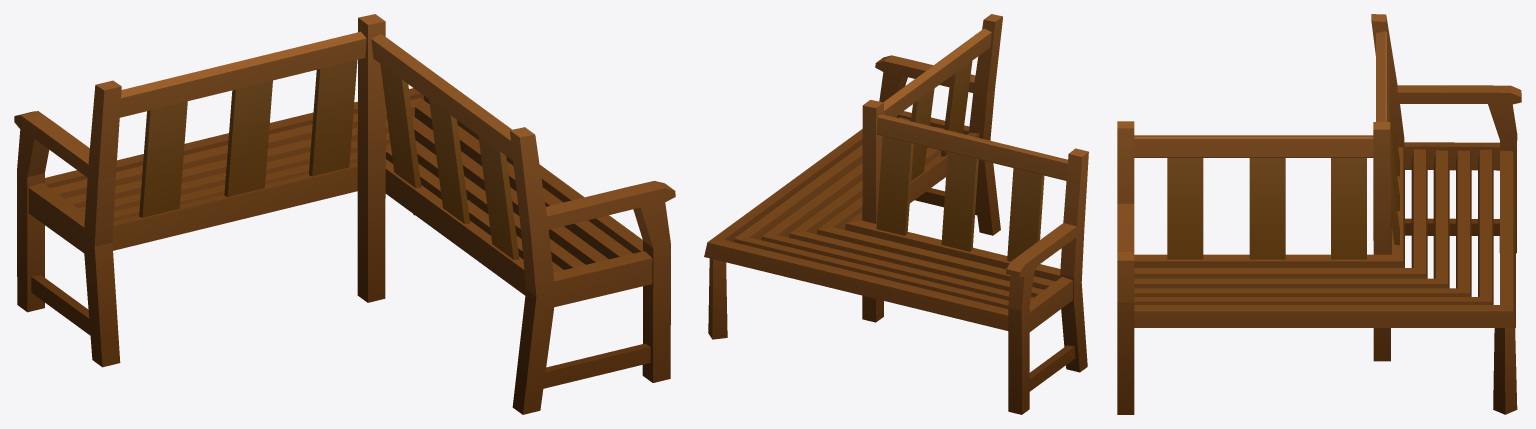
The model's file is Park_Bench002.fbx.
3 renders of one model, left to right at view 1: azimuth 30°, elevation 25°; view 2: azimuth 150°, elevation 25°; view 3: azimuth 270°, elevation 25°, orthographic. The views are drawn at different scales.
Visible parts, largest first — view 1: Park_Bench002; view 2: Park_Bench002; view 3: Park_Bench002.
Part boxes in pixels (box(x1,y1,x2,y2)): Park_Bench002: box(14, 14, 675, 414); Park_Bench002: box(704, 14, 1088, 414); Park_Bench002: box(1117, 14, 1521, 414).
Bounding box in the file's own units: 169 × 169 × 107.
Materials: 1 (1 with a texture image).
